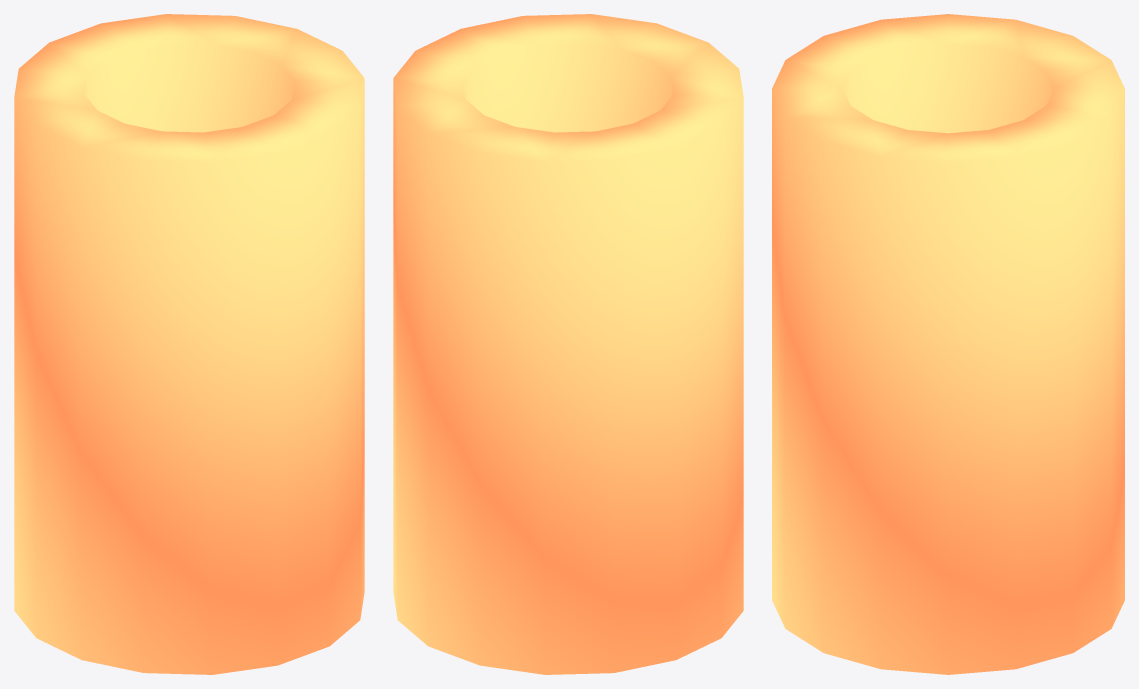
The model's file is fragment-instrument.glb.
3 renders of one model, left to right at view 1: azimuth 30°, elevation 25°; view 2: azimuth 150°, elevation 25°; view 3: azimuth 270°, elevation 25°, orthographic.
Parts seen in each view (by area): view 1: default; view 2: default; view 3: default.
Boxes of the visible parts, box(x1,y1,x2,y2) form: default: box(14, 14, 364, 674); default: box(393, 14, 743, 674); default: box(772, 14, 1124, 674).
Size of the model in its own units: 0.1125 by 0.18 by 0.1125.
